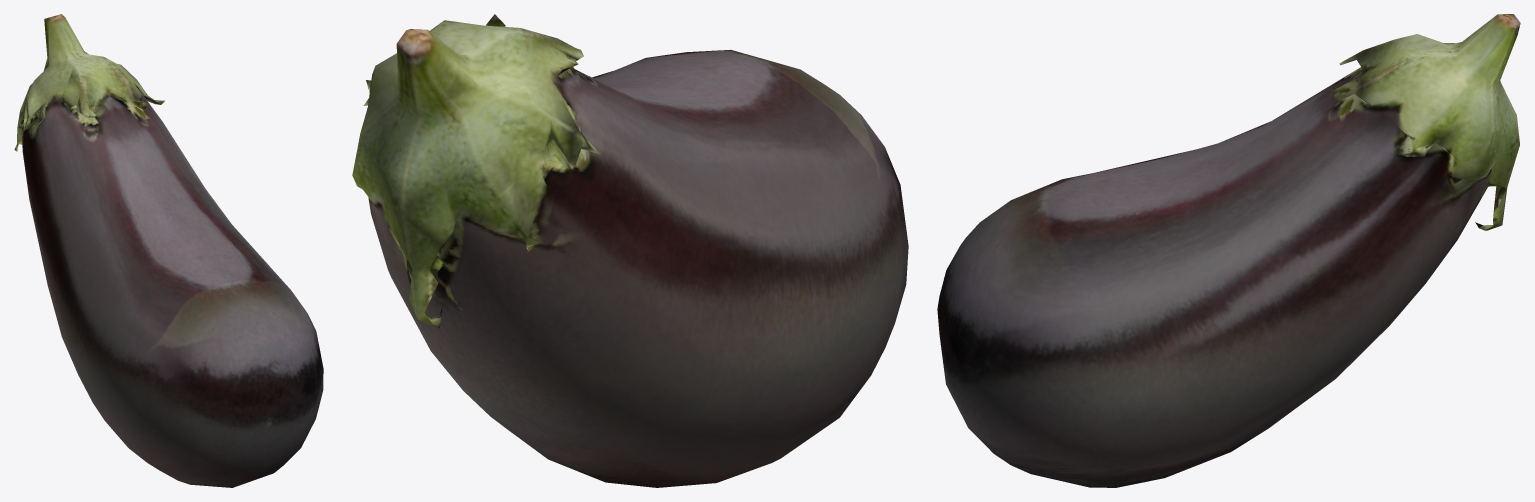
File: Food_Eggplant.fbx
3 views of the same model, side by side, from view 1: azimuth 30°, elevation 25°; view 2: azimuth 150°, elevation 25°; view 3: azimuth 270°, elevation 25° (orthographic). The views are drawn at different scales.
Visible parts, largest first — view 1: Food_Eggplant; view 2: Food_Eggplant; view 3: Food_Eggplant.
Part boxes in pixels (bbox=[...]): Food_Eggplant: bbox=[14, 14, 323, 487]; Food_Eggplant: bbox=[352, 14, 908, 487]; Food_Eggplant: bbox=[937, 14, 1520, 487].
Bounding box in the file's own units: 0.1327 × 0.2252 × 0.26.
Materials: 1 (1 with a texture image).
